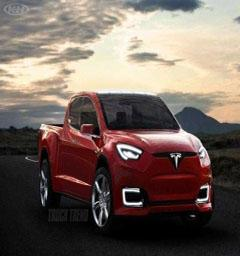car: (33, 78, 237, 254)
